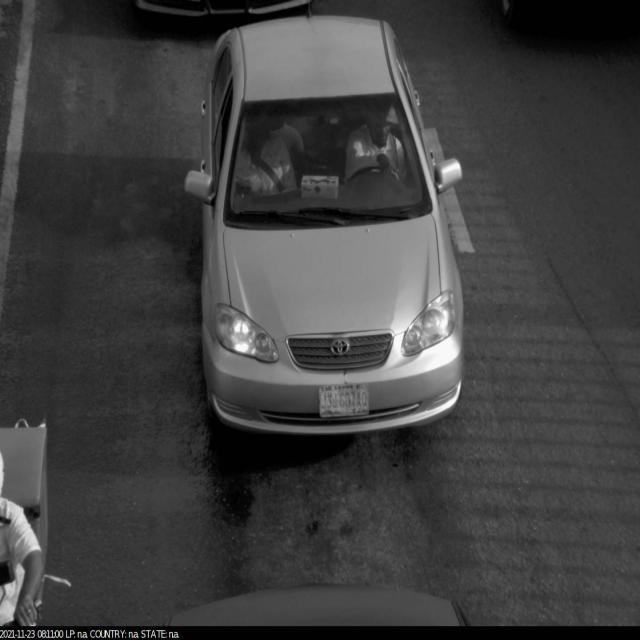windshield: (216, 81, 438, 236)
